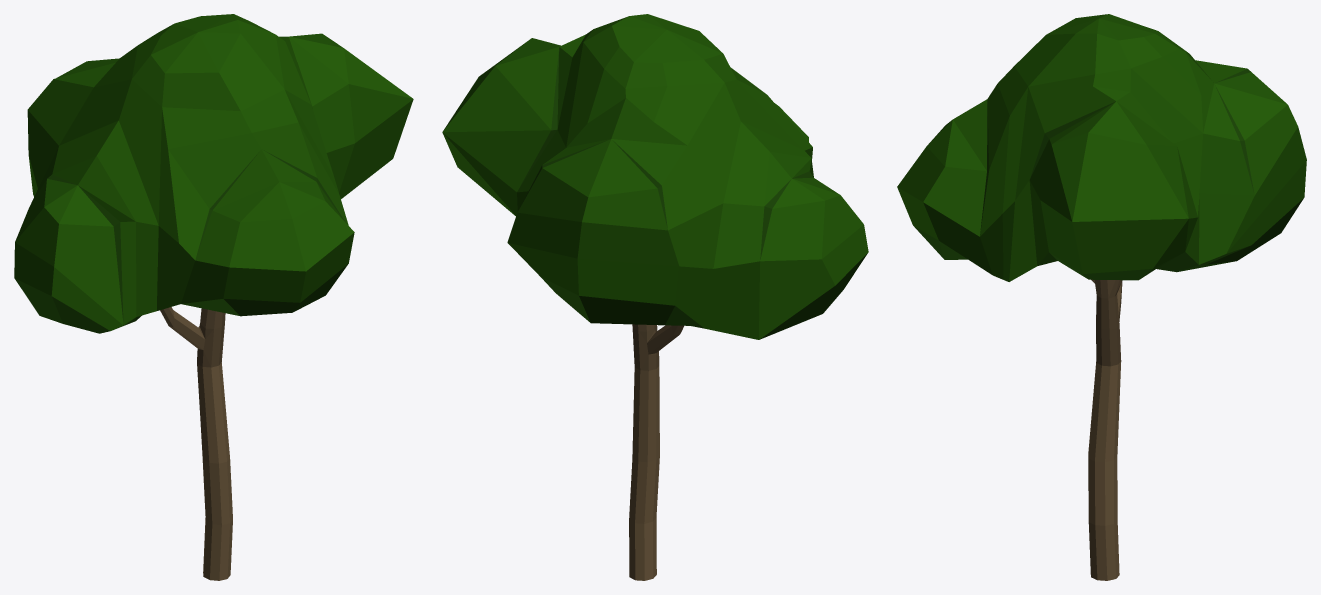
File: tree-1-full.fbx
3 views of the same model, side by side, from view 1: azimuth 30°, elevation 25°; view 2: azimuth 150°, elevation 25°; view 3: azimuth 270°, elevation 25° (orthographic).
Visible parts, largest first — view 1: Cylinder; view 2: Cylinder; view 3: Cylinder.
Boxes of the visible parts, x1,y1,x2,y2 form: Cylinder: [14, 14, 413, 580]; Cylinder: [442, 14, 868, 580]; Cylinder: [897, 14, 1306, 580].
Size of the model in its own units: 470 by 657 by 443.
